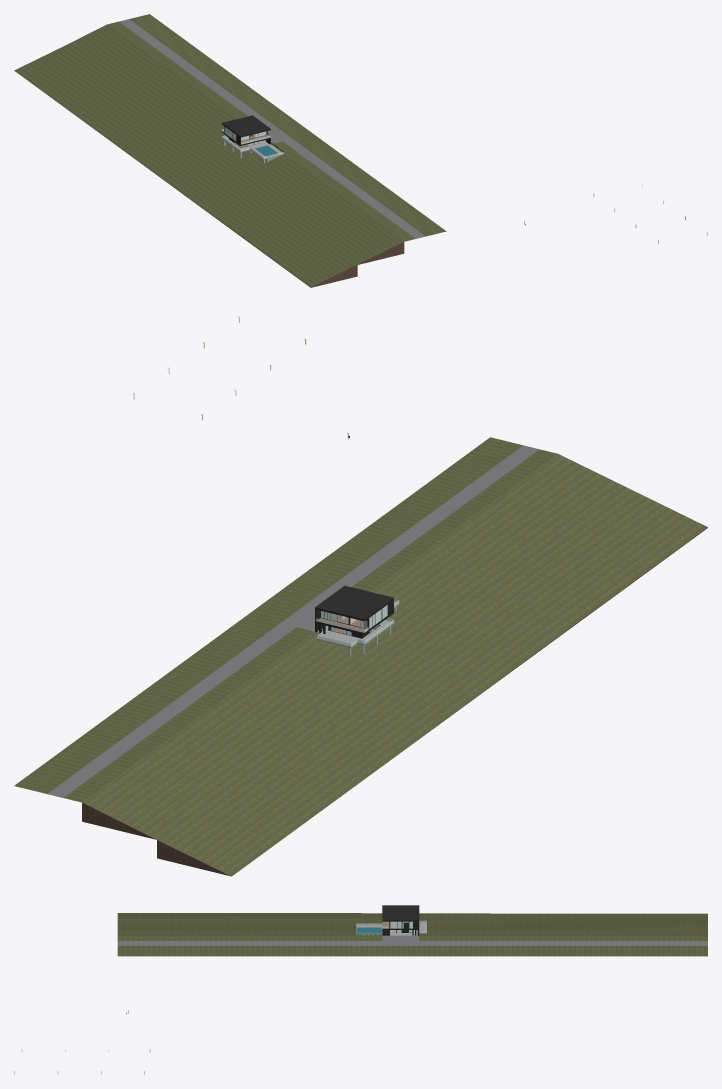
3 renders of one model, top to bottom at view 1: azimuth 30°, elevation 25°; view 2: azimuth 150°, elevation 25°; view 3: azimuth 270°, elevation 25°, orthographic. The views are drawn at different scales.
Visible parts, largest first — view 1: Slab_-_003.005, Mesh_-_001.003, Mesh_-_001.004, Mesh_-_001.005, Mesh_-_001.001, Mesh_-_001.002, Mesh_-_001, Slab_-_003.002, Slab_-_003.003, Slab_-_003.004, Slab_-_002.010; view 2: Slab_-_003.005, Mesh_-_001.002, Mesh_-_001.001, Mesh_-_001.005, Mesh_-_001.003, Mesh_-_001.004, Mesh_-_001, Slab_-_003.002, Slab_-_003.004, Slab_-_003.003, Slab_-_002.010; view 3: Slab_-_003.005, Slab_-_003.002, Mesh_-_001.004, Mesh_-_001.003, Mesh_-_001.001, Mesh_-_001.002, Mesh_-_001.005, Slab_-_003.004, Slab_-_003.003, Mesh_-_001, Slab_-_002.010, Slab_-_003.001.
Part boxes in pixels (left/top/right/bottom): Slab_-_003.005: left=129, top=14, right=446, bottom=236; Mesh_-_001.003: left=212, top=192, right=357, bottom=287; Mesh_-_001.004: left=259, top=169, right=404, bottom=264; Mesh_-_001.005: left=113, top=119, right=258, bottom=215; Mesh_-_001.001: left=14, top=48, right=159, bottom=142; Mesh_-_001.002: left=61, top=24, right=205, bottom=119; Mesh_-_001: left=160, top=97, right=304, bottom=191; Slab_-_003.002: left=119, top=19, right=425, bottom=238; Slab_-_003.003: left=273, top=141, right=415, bottom=241; Slab_-_003.004: left=108, top=21, right=247, bottom=118; Slab_-_002.010: left=221, top=115, right=270, bottom=137; Slab_-_003.005: left=14, top=437, right=522, bottom=793; Mesh_-_001.002: left=82, top=686, right=314, bottom=839; Mesh_-_001.001: left=157, top=723, right=389, bottom=876; Mesh_-_001.005: left=316, top=607, right=549, bottom=760; Mesh_-_001.003: left=474, top=490, right=707, bottom=643; Mesh_-_001.004: left=400, top=454, right=632, bottom=606; Mesh_-_001: left=241, top=570, right=473, bottom=722; Slab_-_003.002: left=47, top=445, right=538, bottom=797; Slab_-_003.004: left=64, top=627, right=314, bottom=802; Slab_-_003.003: left=351, top=449, right=557, bottom=591; Slab_-_002.010: left=315, top=585, right=393, bottom=621; Slab_-_003.005: left=117, top=946, right=707, bottom=956; Slab_-_003.002: left=117, top=935, right=707, bottom=945; Mesh_-_001.004: left=117, top=924, right=314, bottom=935; Mesh_-_001.003: left=117, top=913, right=314, bottom=924; Mesh_-_001.001: left=511, top=913, right=707, bottom=924; Mesh_-_001.002: left=511, top=924, right=707, bottom=935; Mesh_-_001.005: left=314, top=913, right=511, bottom=924; Slab_-_003.004: left=419, top=935, right=707, bottom=940; Slab_-_003.003: left=117, top=935, right=382, bottom=940; Mesh_-_001: left=314, top=924, right=511, bottom=935; Slab_-_002.010: left=382, top=905, right=419, bottom=921; Slab_-_003.001: left=356, top=922, right=426, bottom=935.
Size of the model in its own units: 229 by 24.54 by 400.
